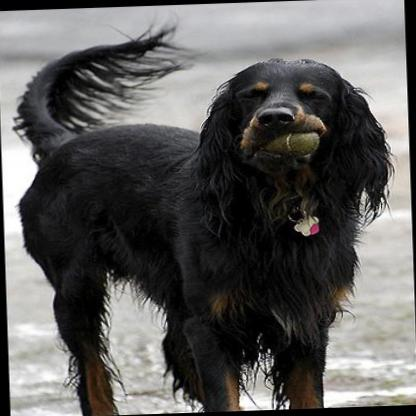Gordon_setter: (4, 7, 406, 416)
